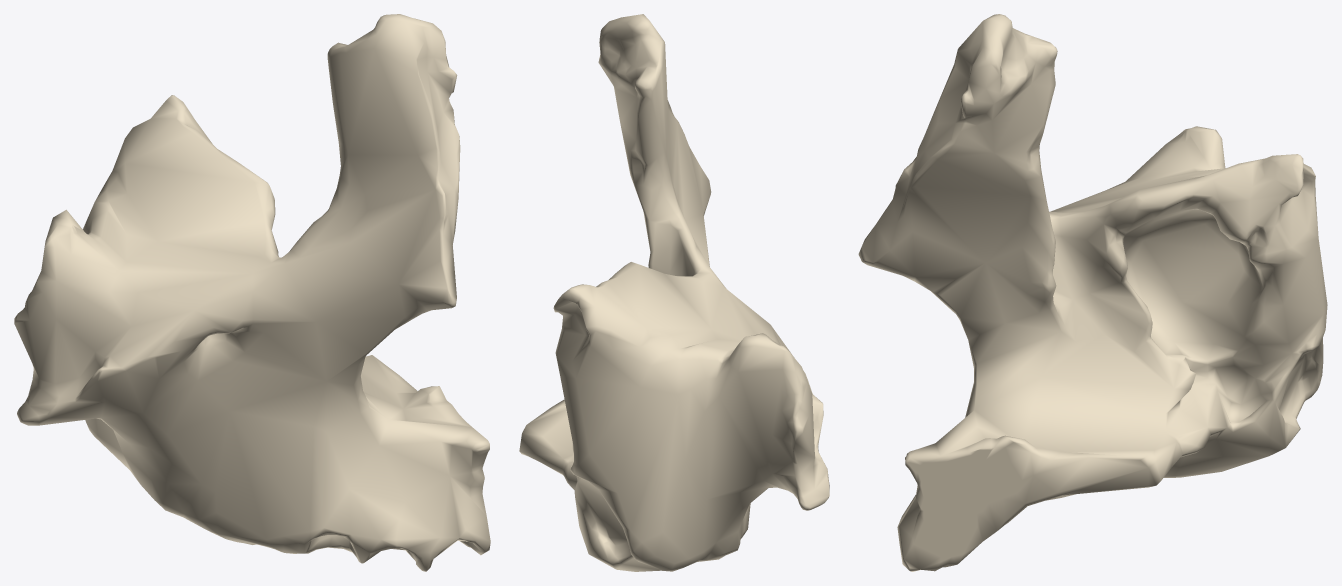
Rendered from maxilla-r.glb.
3 renders of one model, left to right at view 1: azimuth 30°, elevation 25°; view 2: azimuth 150°, elevation 25°; view 3: azimuth 270°, elevation 25°, orthographic. The views are drawn at different scales.
Visible parts, largest first — view 1: Maxilla.r; view 2: Maxilla.r; view 3: Maxilla.r.
Boxes of the visible parts, x1,y1,x2,y2 form: Maxilla.r: (14, 14, 490, 571); Maxilla.r: (519, 14, 829, 571); Maxilla.r: (858, 14, 1327, 571).
Bounding box in the file's own units: 0.0462 × 0.0678 × 0.0538.
